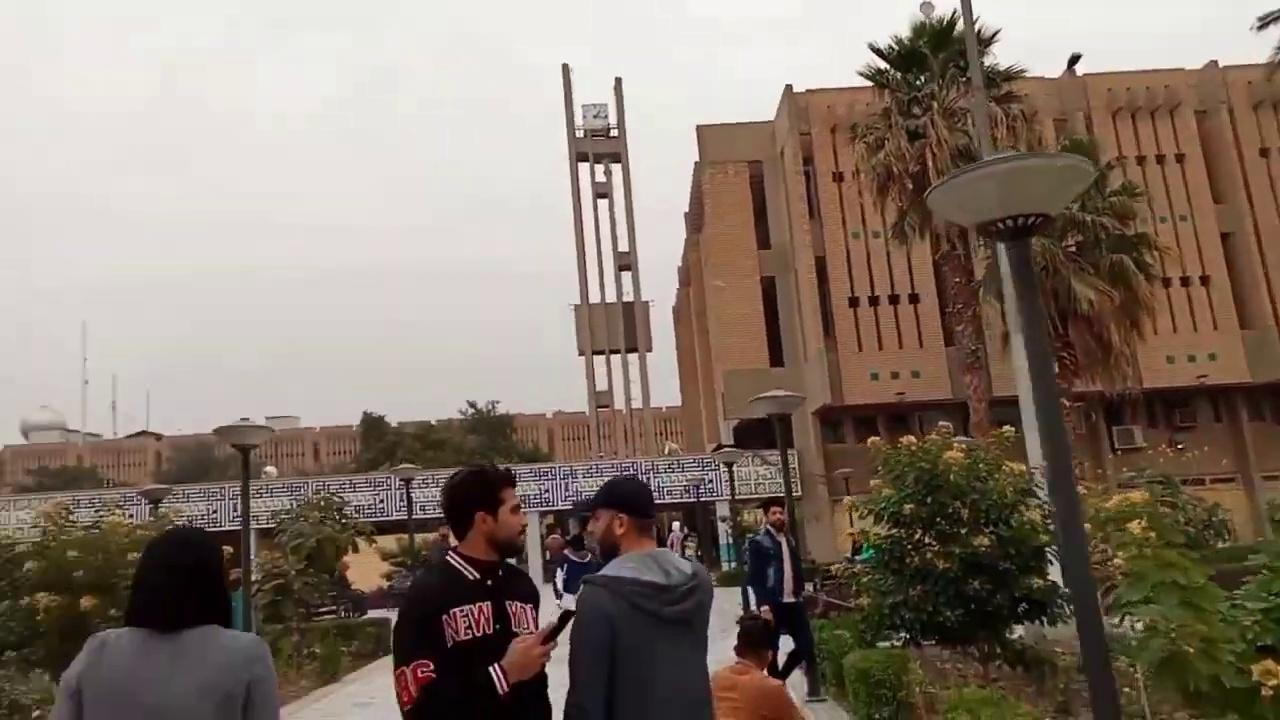person: (47, 525, 281, 719), (391, 464, 558, 719), (562, 476, 714, 719), (744, 497, 826, 701), (665, 520, 684, 556)
tree: (845, 7, 1167, 717), (845, 7, 1029, 438), (820, 418, 1077, 716), (1083, 465, 1279, 718), (0, 496, 186, 718), (1028, 132, 1175, 399), (245, 491, 381, 687), (349, 398, 552, 472), (455, 398, 516, 464), (351, 408, 395, 472), (411, 421, 452, 468), (1249, 7, 1279, 64), (512, 439, 553, 463)
